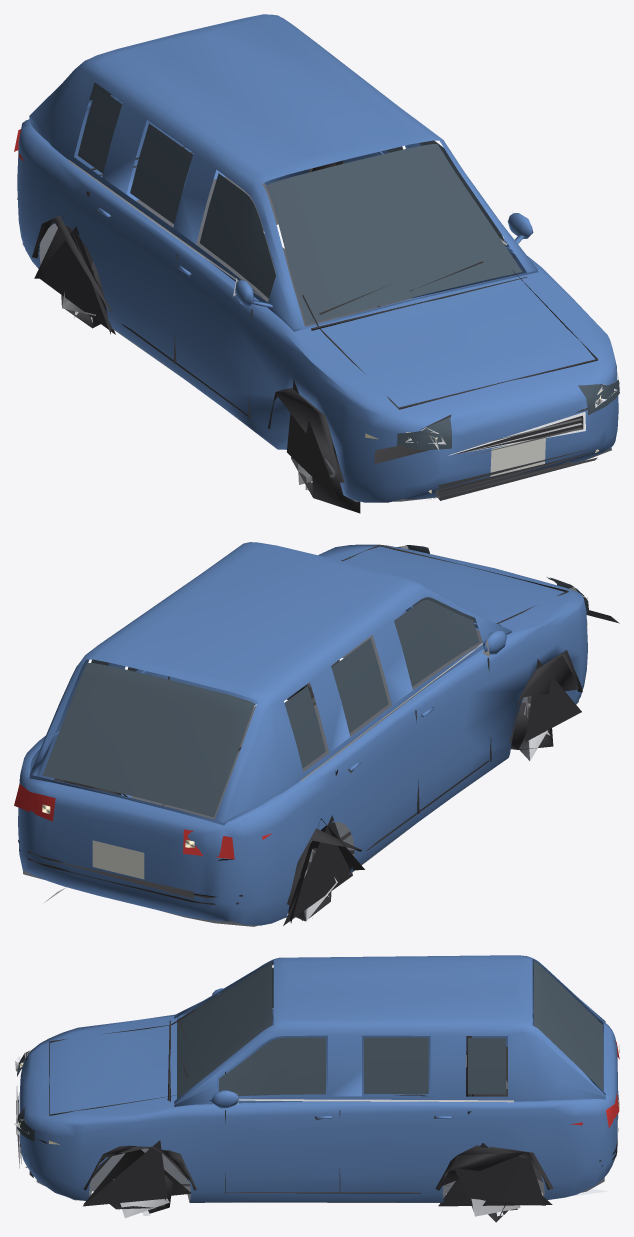
The model's file is CarV3_SUV_L2.fbx.
3 renders of one model, top to bottom at view 1: azimuth 30°, elevation 25°; view 2: azimuth 150°, elevation 25°; view 3: azimuth 270°, elevation 25°, orthographic. The views are drawn at different scales.
Parts seen in each view (by area): view 1: CarV3_SUV.001; view 2: CarV3_SUV.001; view 3: CarV3_SUV.001.
Boxes of the visible parts, x1,y1,x2,y2 form: CarV3_SUV.001: (14,14,619,513); CarV3_SUV.001: (14,542,619,926); CarV3_SUV.001: (14,955,619,1222).
Bounding box in the file's own units: 1.99 × 1.65 × 4.76.
